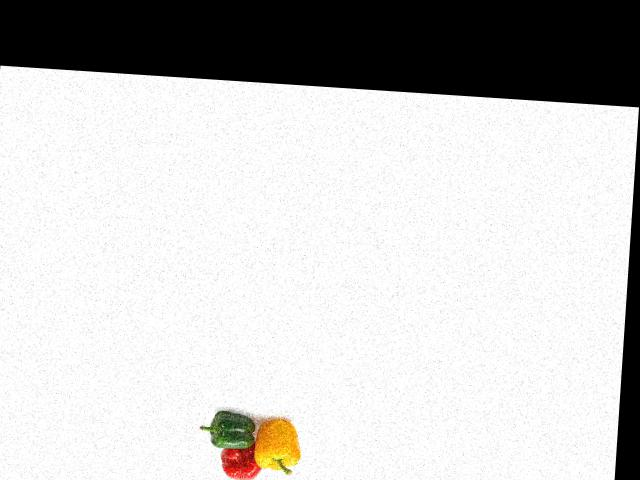bell_pepper: (202, 409, 266, 456)
